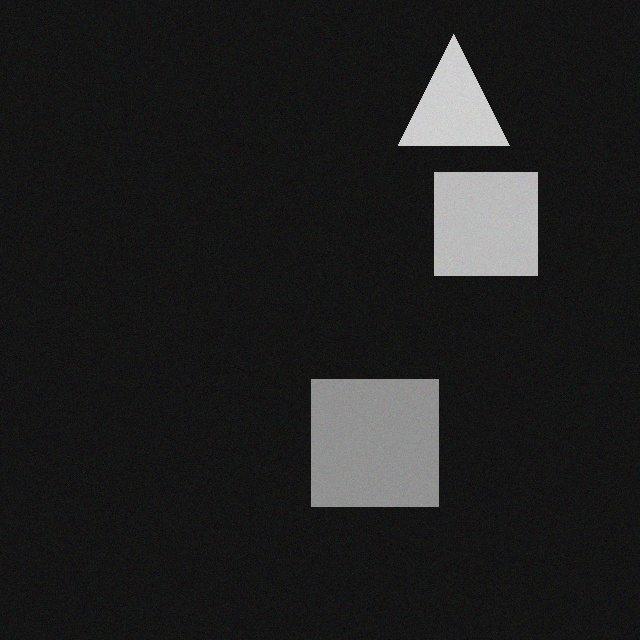square: (324, 391, 451, 518), (447, 184, 550, 287)
triangle: (411, 46, 522, 157)
